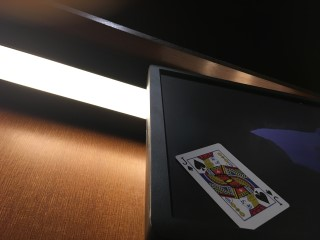JackOfSpades: (175, 143, 290, 229)
